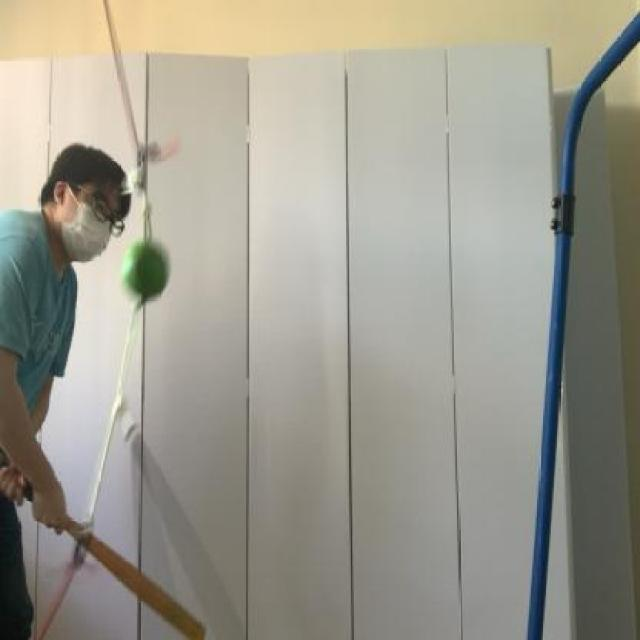baseball: (116, 237, 170, 301)
